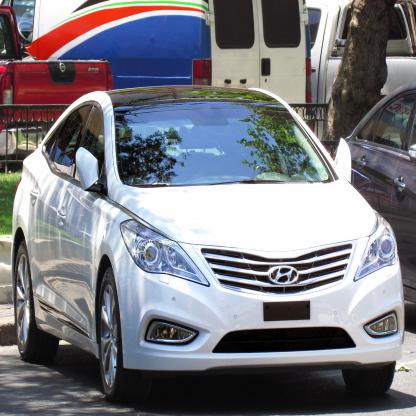Vehicle: (13, 89, 407, 412)
